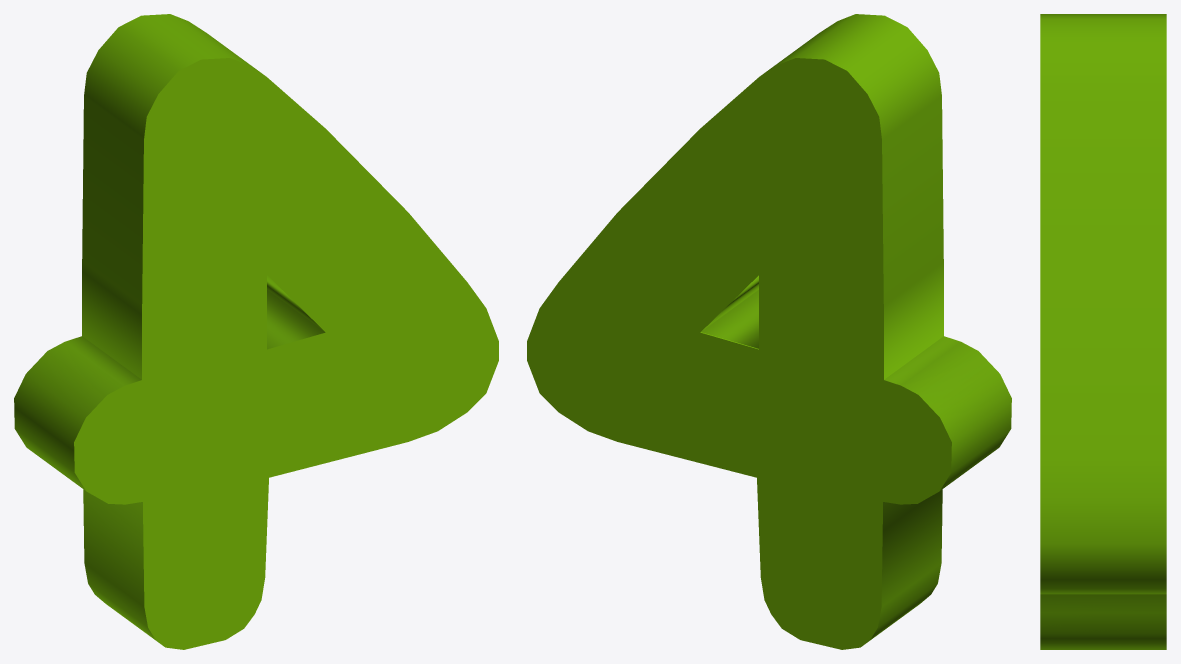
The model's file is TXL0210005.fbx.
3 views of the same model, side by side, from view 1: azimuth 30°, elevation 25°; view 2: azimuth 150°, elevation 25°; view 3: azimuth 270°, elevation 25° (orthographic). The views are drawn at different scales.
Parts seen in each view (by area): view 1: smTXL0210005; view 2: smTXL0210005; view 3: smTXL0210005.
Part boxes in pixels (<box>): smTXL0210005: <box>14,14,498,649</box>; smTXL0210005: <box>527,14,1011,649</box>; smTXL0210005: <box>1040,14,1166,649</box>.
Size of the model in its own units: 89.96 by 119 by 22.01.
1 material, 1 textured.
